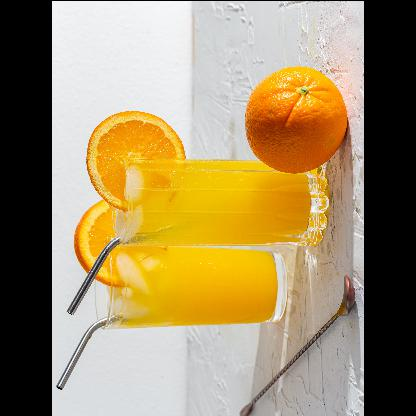orange juice: (112, 155, 312, 247), (108, 247, 280, 328)
